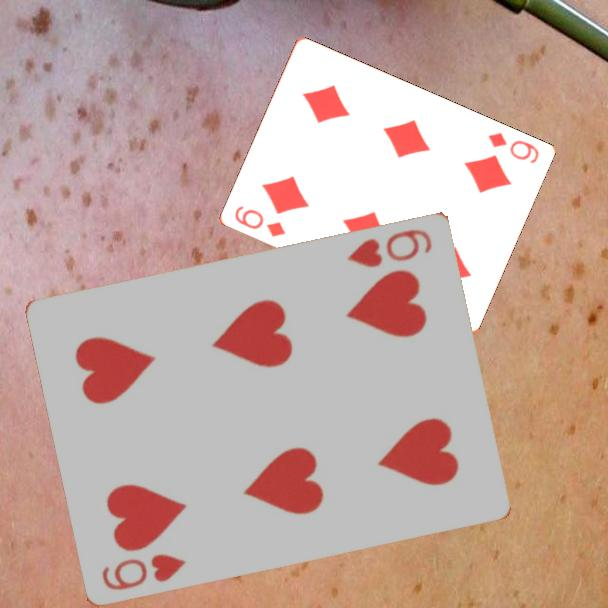d06: (483, 129, 542, 167), (231, 202, 288, 240)
h06: (344, 225, 436, 270), (98, 549, 189, 593)
